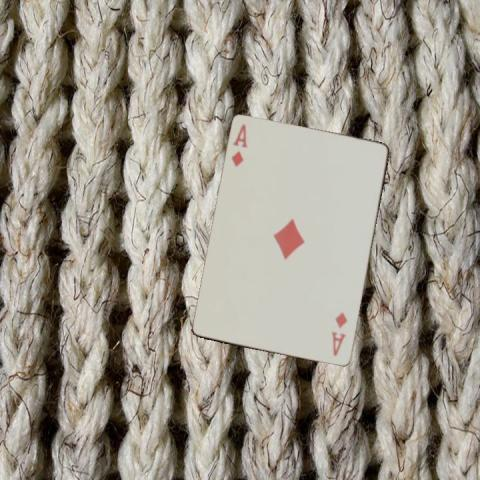Ad: (328, 309, 348, 358), (228, 121, 248, 169)
